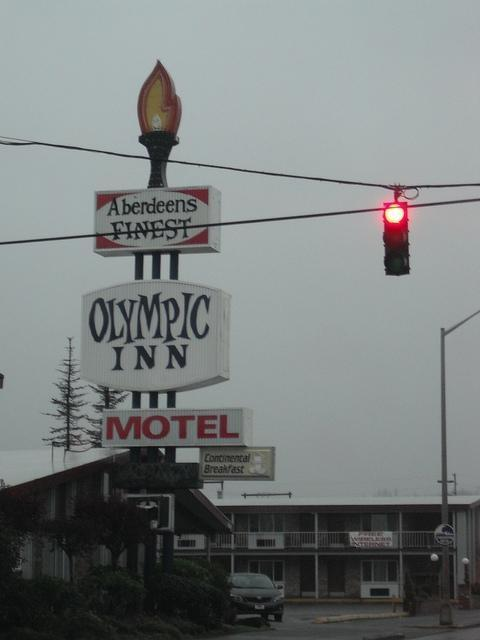car: (228, 573, 284, 621)
